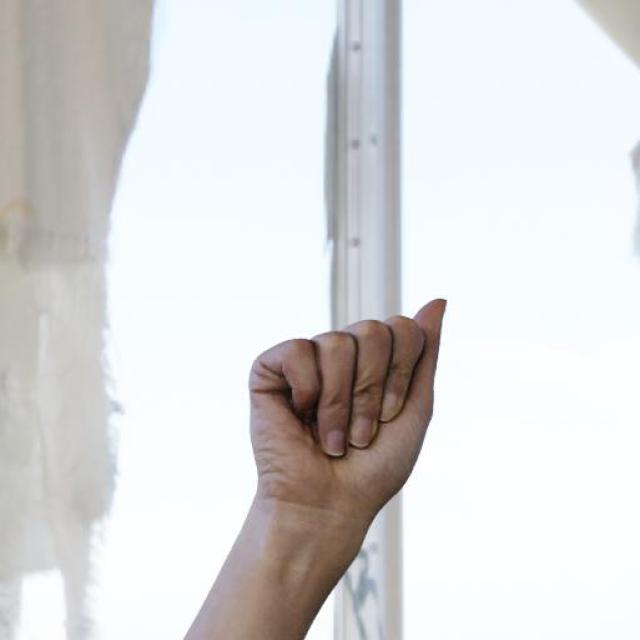A: (242, 294, 448, 520)
